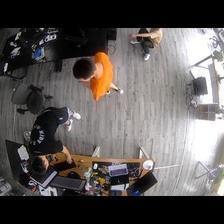fall: (126, 29, 168, 60)
normal: (29, 104, 81, 170), (70, 49, 127, 100)
